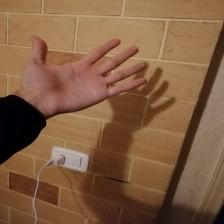five: (20, 32, 163, 120)
